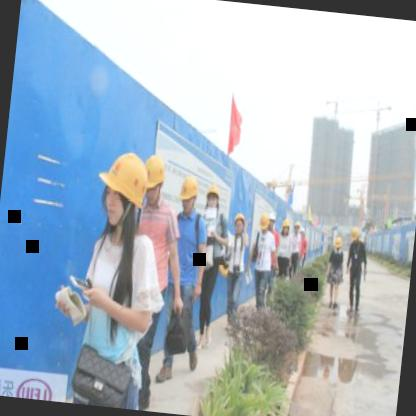helmet: (95, 146, 152, 233), (138, 148, 172, 213), (174, 173, 200, 218), (202, 182, 221, 218), (256, 209, 272, 236), (233, 210, 250, 234), (278, 214, 294, 238), (330, 234, 346, 256), (348, 226, 362, 250)
